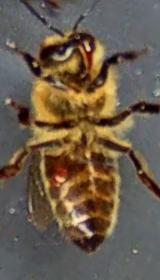varroa_mite: (45, 153, 83, 189)
